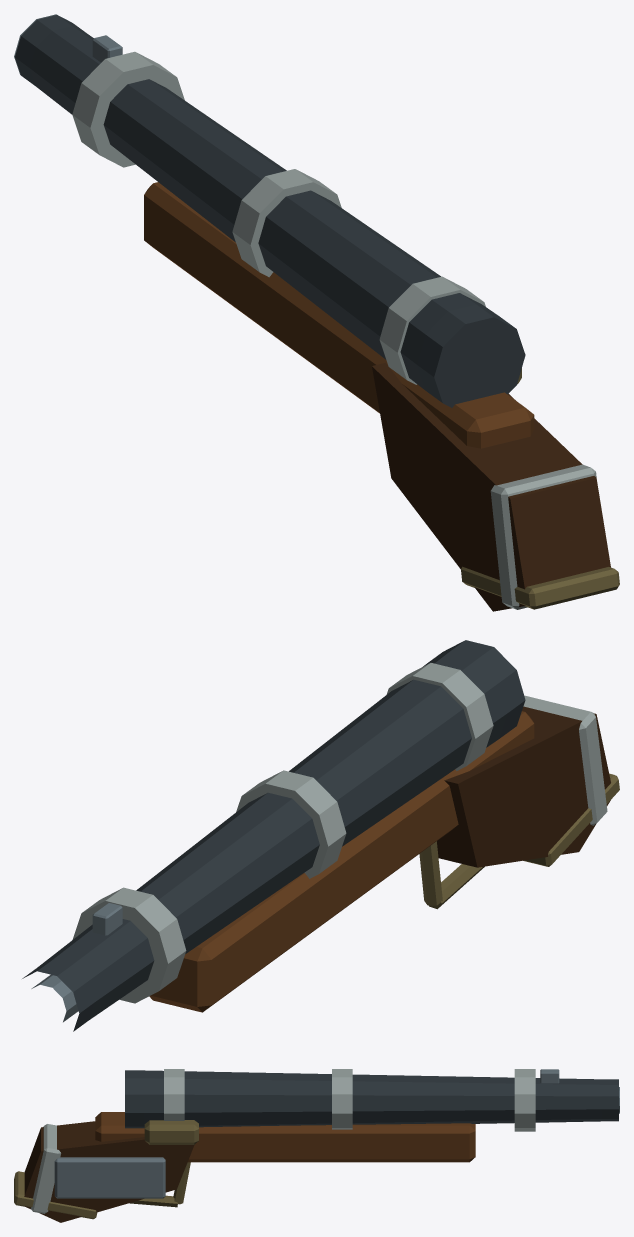
File: Musket.glb
3 renders of one model, top to bottom at view 1: azimuth 30°, elevation 25°; view 2: azimuth 150°, elevation 25°; view 3: azimuth 270°, elevation 25°, orthographic. The views are drawn at different scales.
Parts seen in each view (by area): view 1: Sculpture; view 2: Sculpture; view 3: Sculpture.
Part boxes in pixels (bbox=[...]): Sculpture: bbox=[14, 14, 619, 611]; Sculpture: bbox=[22, 640, 619, 1031]; Sculpture: bbox=[14, 1069, 619, 1222].
Bounding box in the file's own units: 0.149 × 0.313 × 1.23.
